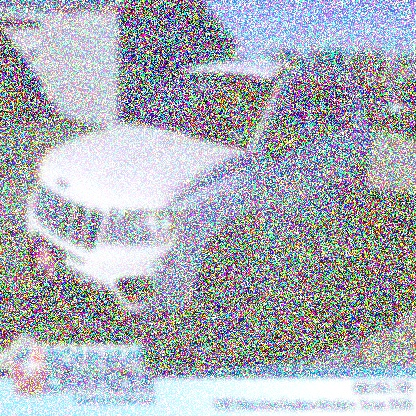Vehicle: (24, 54, 378, 351)
